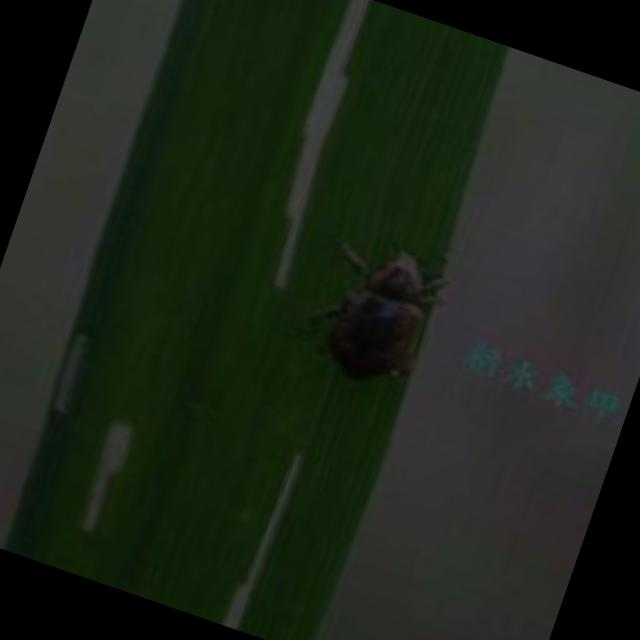rice-bug: (290, 226, 472, 410)
